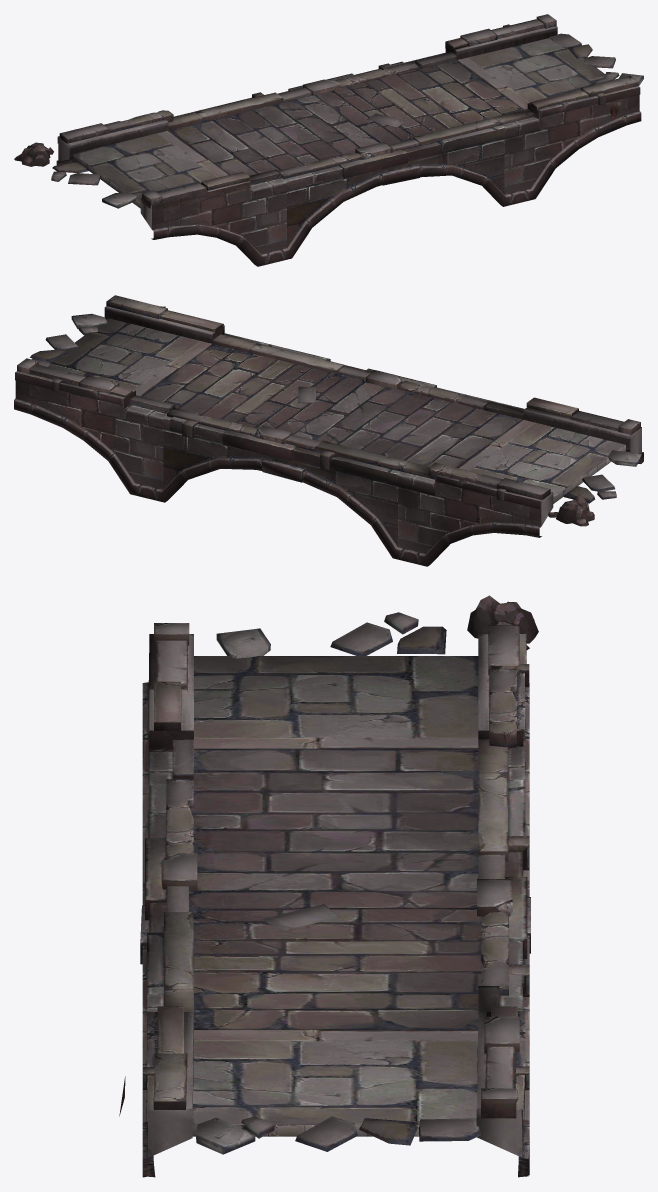
The model's file is bridge_H.fbx.
3 renders of one model, top to bottom at view 1: azimuth 30°, elevation 25°; view 2: azimuth 150°, elevation 25°; view 3: azimuth 270°, elevation 25°, orthographic. The views are drawn at different scales.
Visible parts, largest first — view 1: bridge_H; view 2: bridge_H; view 3: bridge_H.
Boxes of the visible parts, <box> form: bridge_H: <box>14,14,643,266</box>; bridge_H: <box>14,295,643,566</box>; bridge_H: <box>119,595,538,1177</box>.
Size of the model in its own units: 39.5 by 6.19 by 12.95.
